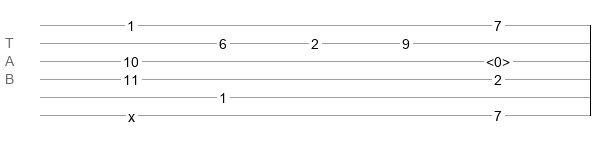1: (127, 18, 135, 28), (219, 90, 227, 100)
10: (123, 54, 139, 64)
11: (123, 72, 139, 82)
2: (311, 36, 319, 46), (494, 72, 502, 82)
6: (219, 36, 227, 46)
7: (494, 108, 502, 118), (494, 18, 502, 28)
9: (402, 36, 410, 46)
harmonic: (486, 54, 510, 64)
x: (128, 109, 135, 117)
